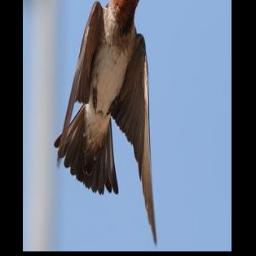Swallow: (54, 0, 157, 247)
